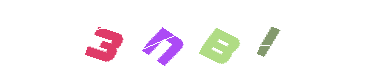1: (191, 0, 271, 80)
3: (66, 0, 146, 80)
B: (145, 0, 225, 80)
N: (124, 0, 204, 80)
